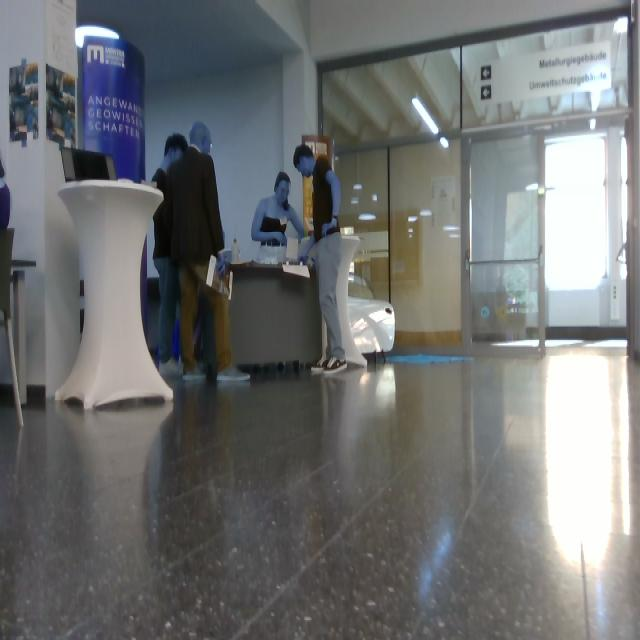desk: (230, 265, 322, 362)
door: (320, 1, 634, 364)
light bulb: (412, 97, 439, 134), (77, 26, 120, 48)
person: (166, 124, 248, 382), (295, 145, 347, 379), (153, 134, 188, 376), (252, 173, 305, 264)
pillar: (1, 1, 81, 398)
table: (57, 180, 172, 409), (336, 237, 366, 366)
tiled floor: (1, 349, 640, 640)
